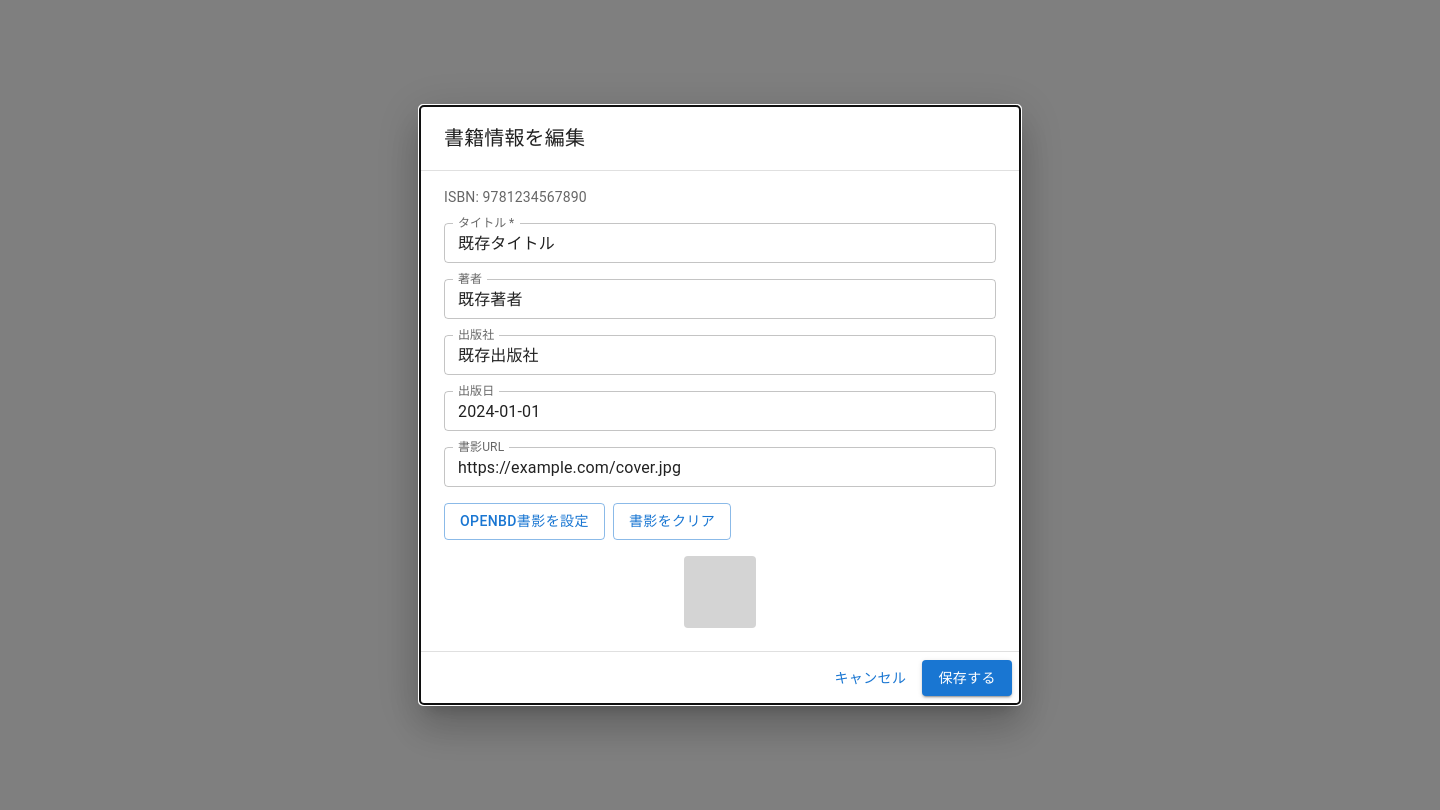
BookEditDialog › validates title is required
The width and height of the screenshot is (1440, 810).
Clear the field with test id "book-edit-title-input". click: (720, 243)
box: [444,223,996,263]
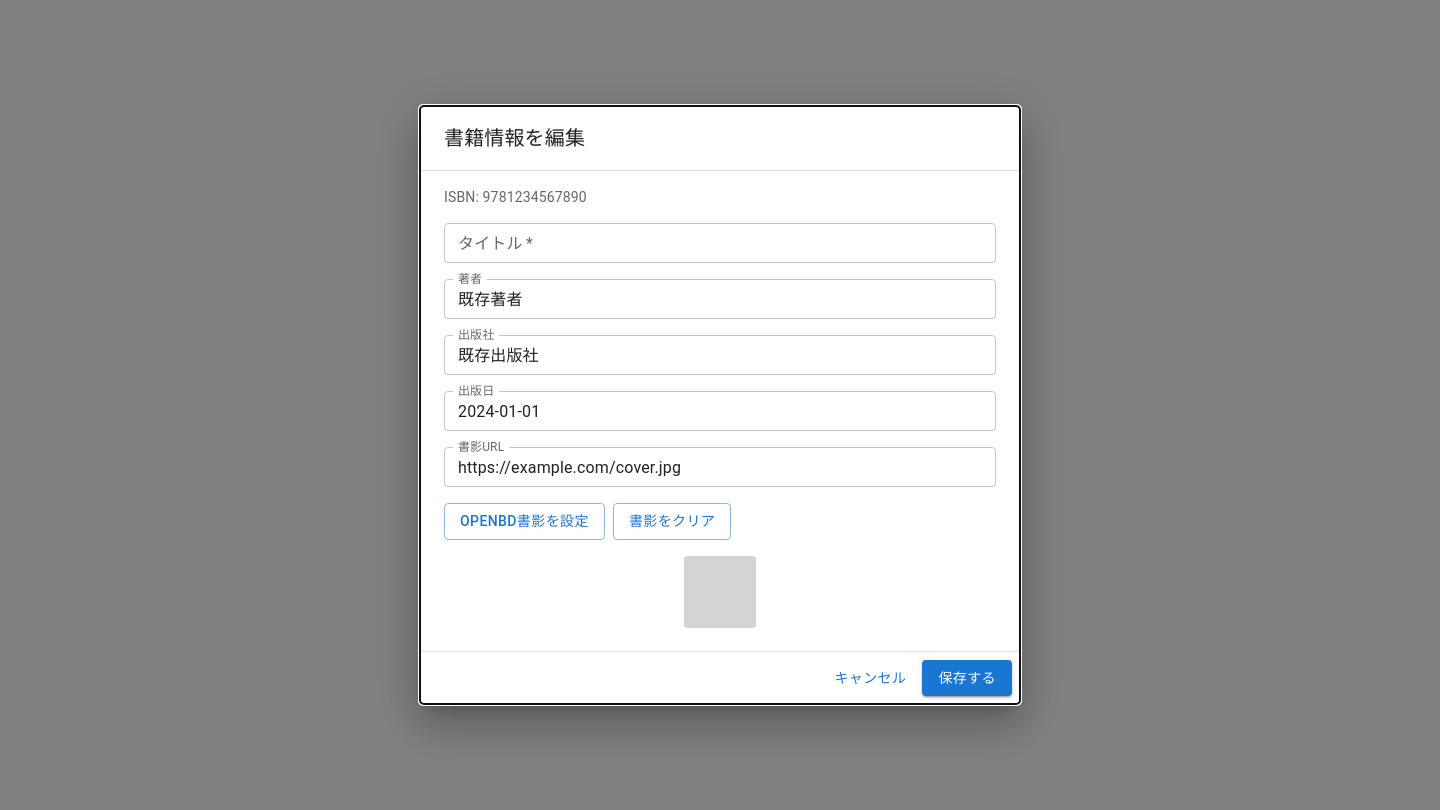
Click the button with test id "book-edit-save". click: (967, 678)
box: [922,660,1012,696]
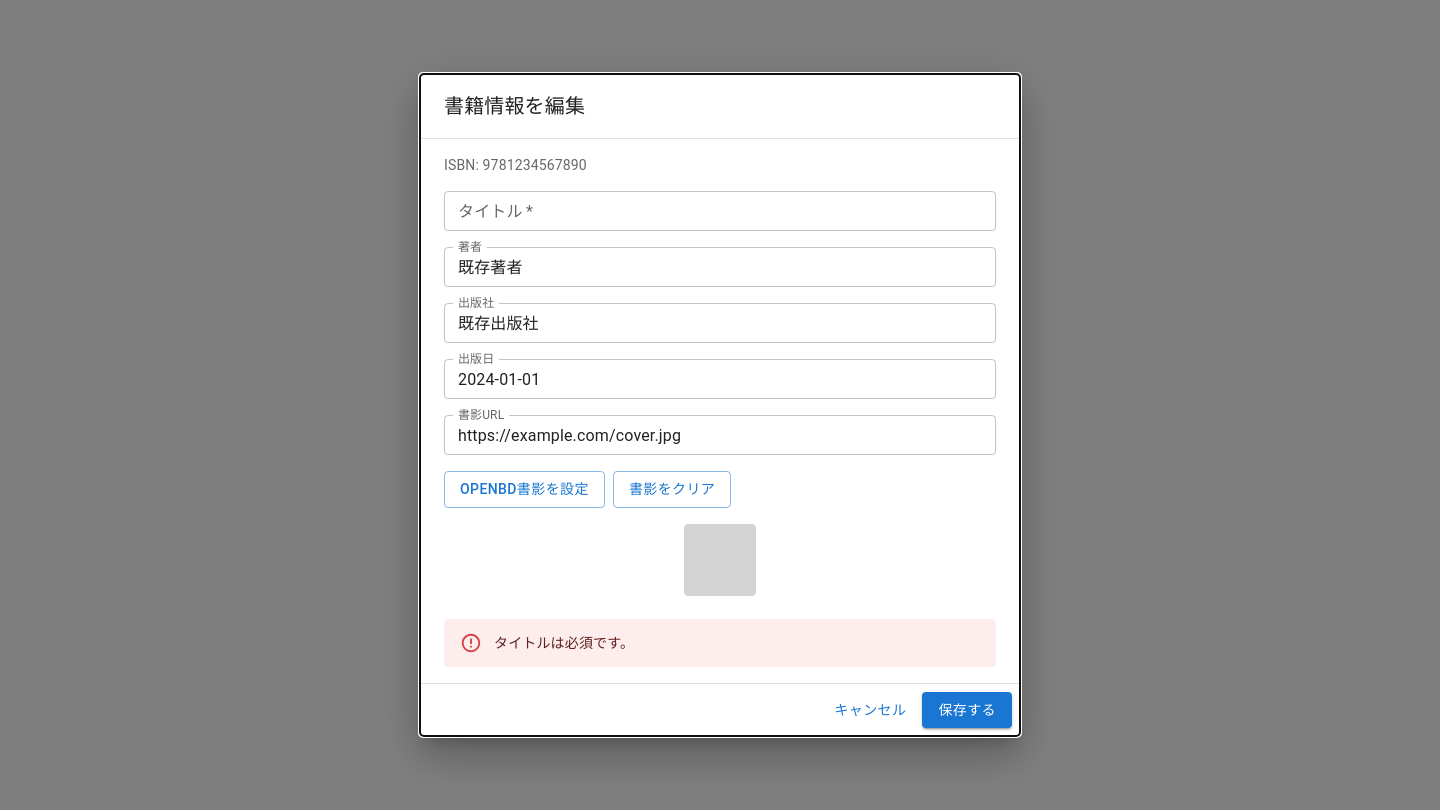
Expected: the message with test id "book-edit-error" reads "タイトルは必須です。", [494,634,634,650]
